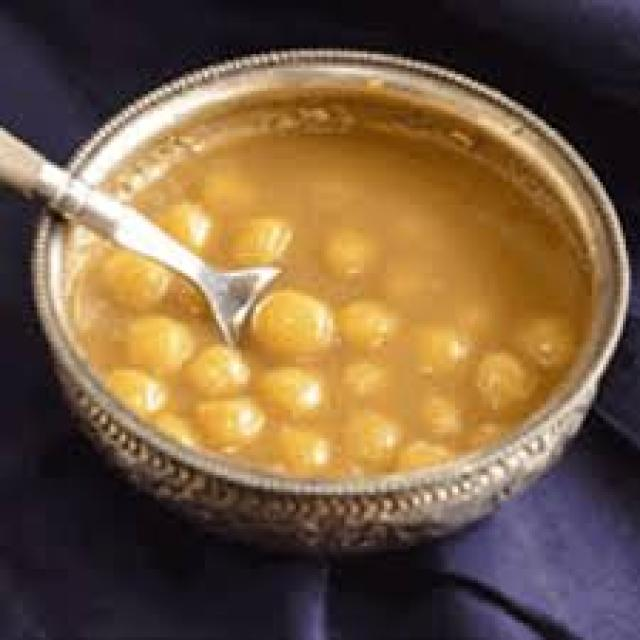paal kolukattai: (49, 96, 562, 485)
